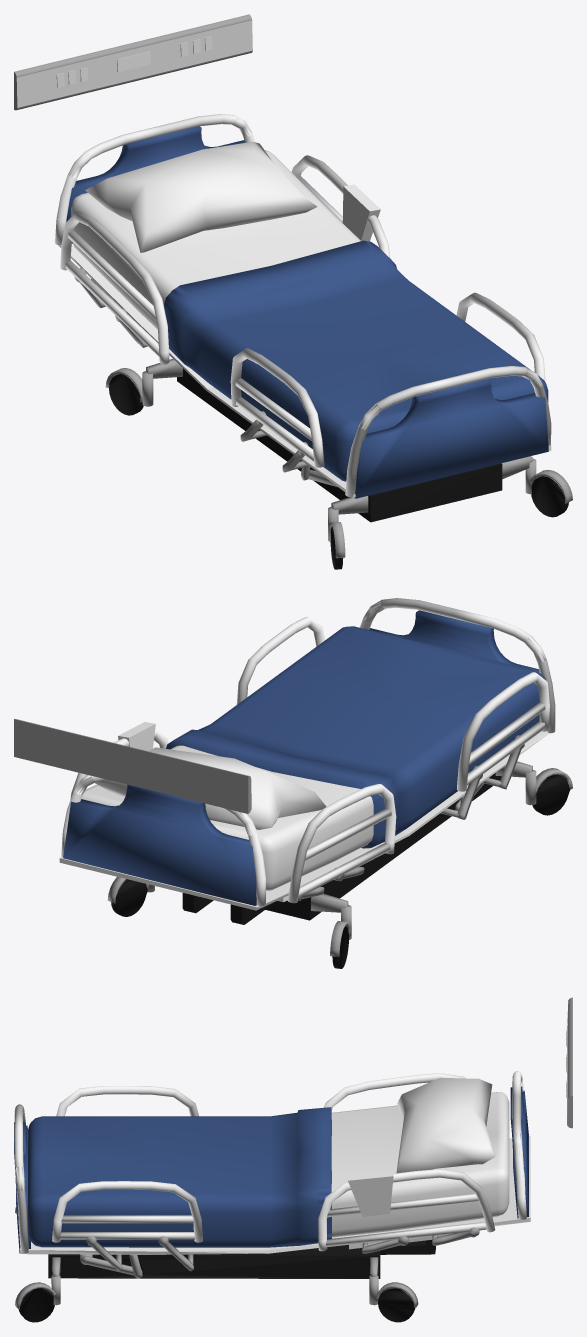
File: hospital_bed_room.dae
3 renders of one model, top to bottom at view 1: azimuth 30°, elevation 25°; view 2: azimuth 150°, elevation 25°; view 3: azimuth 270°, elevation 25°, orthographic. The views are drawn at different scales.
Parts seen in each view (by area): view 1: BedCovering, BedSide, BedBackBoard, Pillow, BedBed, BackGroud, Tire, BedBottomBoard, BedBoard, BedCube, BedJoint, Cube; view 2: BedCovering, BedBackBoard, BedSide, BackGroud, BedBed, Tire, Pillow, BedBoard, BedBottomBoard, BedJoint, HeadSupport, BedCube; view 3: BedCovering, BedSide, BedBed, Pillow, BedBottomBoard, BedBoard, Tire, BedJoint, BedCube, BedBackBoard, BackGroud, HeadSupport.
Part boxes in pixels (x1,y1,x2,y2): BedCovering: (163,240,548,481); BedSide: (55,114,551,497); BedBackBoard: (66,126,548,498); Pillow: (85,141,317,252); BedBed: (71,150,360,329); BackGroud: (14,14,252,110); Tire: (105,359,572,569); BedBottomBoard: (177,368,502,522); BedBoard: (54,240,551,497); BedCube: (342,184,380,241); BedJoint: (74,268,337,487); Cube: (56,36,212,87); BedCovering: (166,626,546,848); BedBackBoard: (63,610,544,905); BedSide: (61,598,555,905); BackGroud: (14,719,251,813); BedBed: (81,745,373,890); Tire: (107,761,572,968); Pillow: (94,747,326,829); BedBoard: (59,731,549,910); BedBottomBoard: (265,773,501,920); BedJoint: (298,735,524,900); HeadSupport: (182,893,276,924); BedCube: (118,722,155,751); BedCovering: (27,1107,332,1247); BedSide: (14,1071,526,1253); BedBed: (331,1092,509,1237); Pillow: (396,1077,495,1173); BedBottomBoard: (48,1245,380,1278); BedBoard: (20,1135,530,1254); Tire: (15,1207,418,1322); BedJoint: (80,1227,479,1278); BedCube: (347,1171,393,1216); BedBackBoard: (14,1086,528,1253); BackGroud: (567,997,572,1128); HeadSupport: (380,1240,435,1254).
Bounding box in the file's own units: 1.02 × 2.39 × 1.09.
